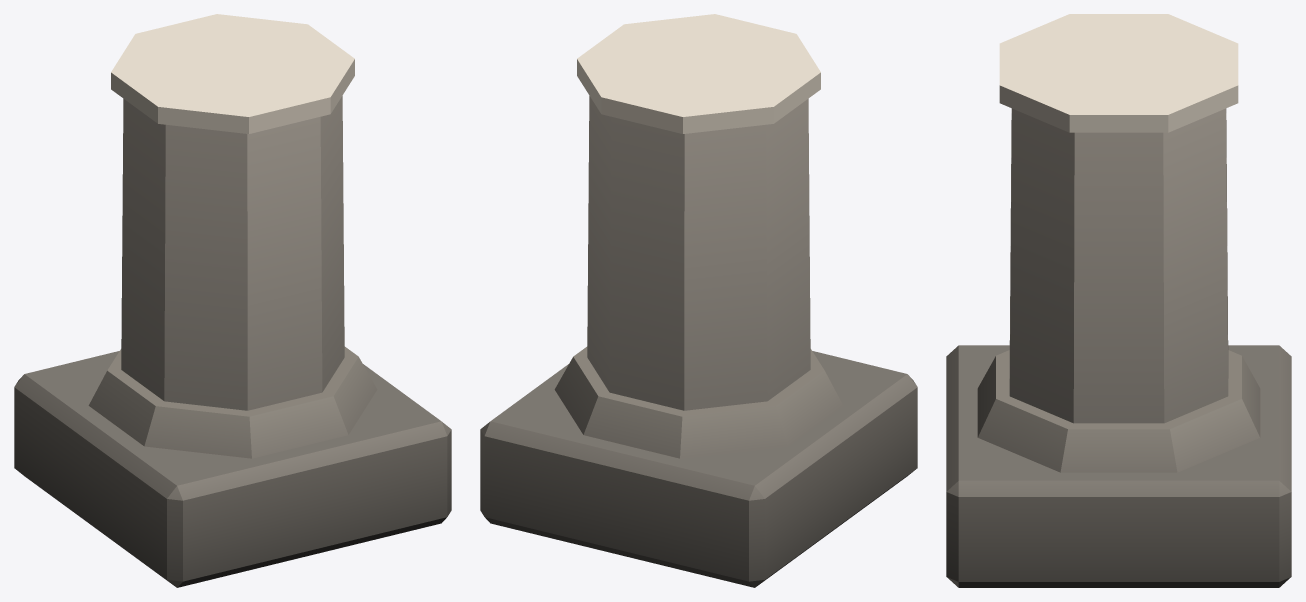
The model's file is SM_VKI_Prop_Pillar_Cut.fbx.
3 views of the same model, side by side, from view 1: azimuth 30°, elevation 25°; view 2: azimuth 150°, elevation 25°; view 3: azimuth 270°, elevation 25° (orthographic). The views are drawn at different scales.
Visible parts, largest first — view 1: SM_VKI_Prop_Pillar_Cut.001; view 2: SM_VKI_Prop_Pillar_Cut.001; view 3: SM_VKI_Prop_Pillar_Cut.001.
Part boxes in pixels (left/top/right/bottom): SM_VKI_Prop_Pillar_Cut.001: left=14, top=14, right=451, bottom=587; SM_VKI_Prop_Pillar_Cut.001: left=480, top=14, right=917, bottom=587; SM_VKI_Prop_Pillar_Cut.001: left=946, top=14, right=1291, bottom=587.
Size of the model in its own units: 0.7 by 1.02 by 0.7.
